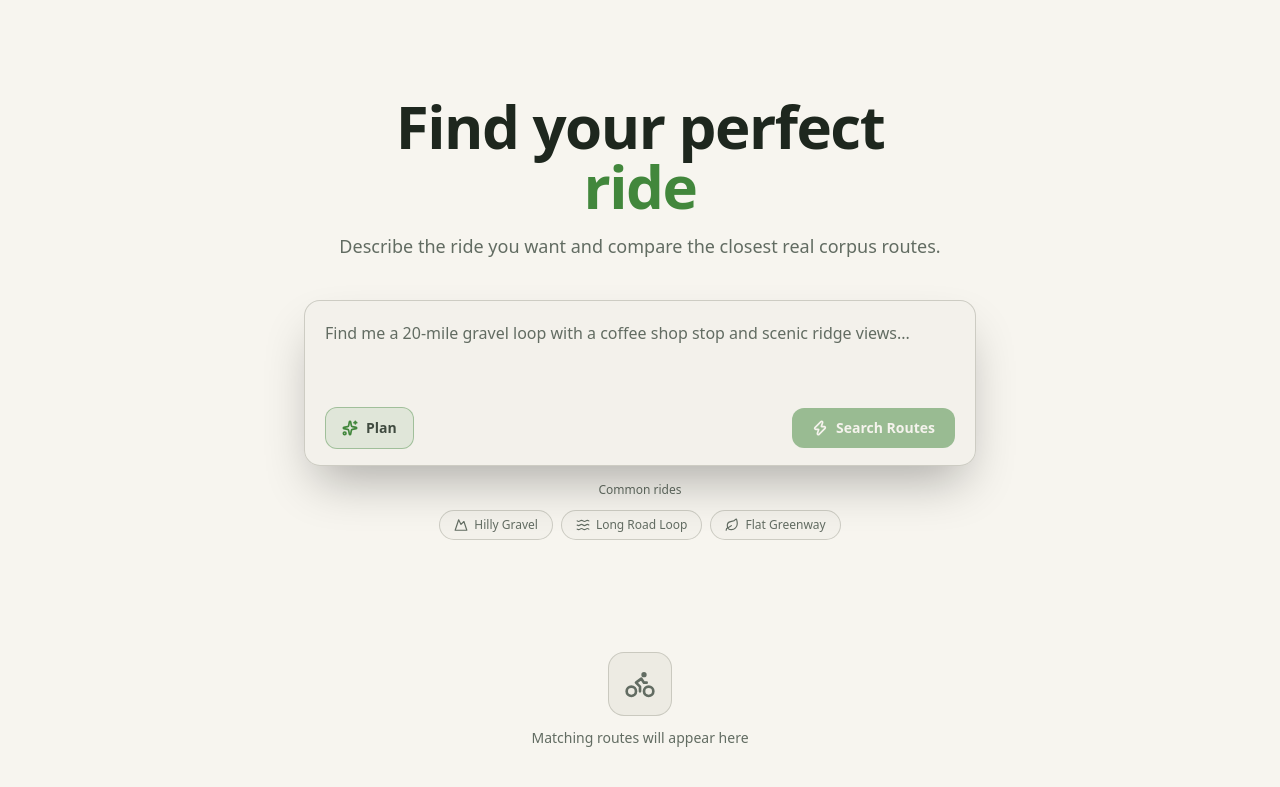
Test: GeneratePage › searches and renders returned route cards
Replace the text in the text box with "flat paved loop" at (640, 353), box [309,305,971,401]
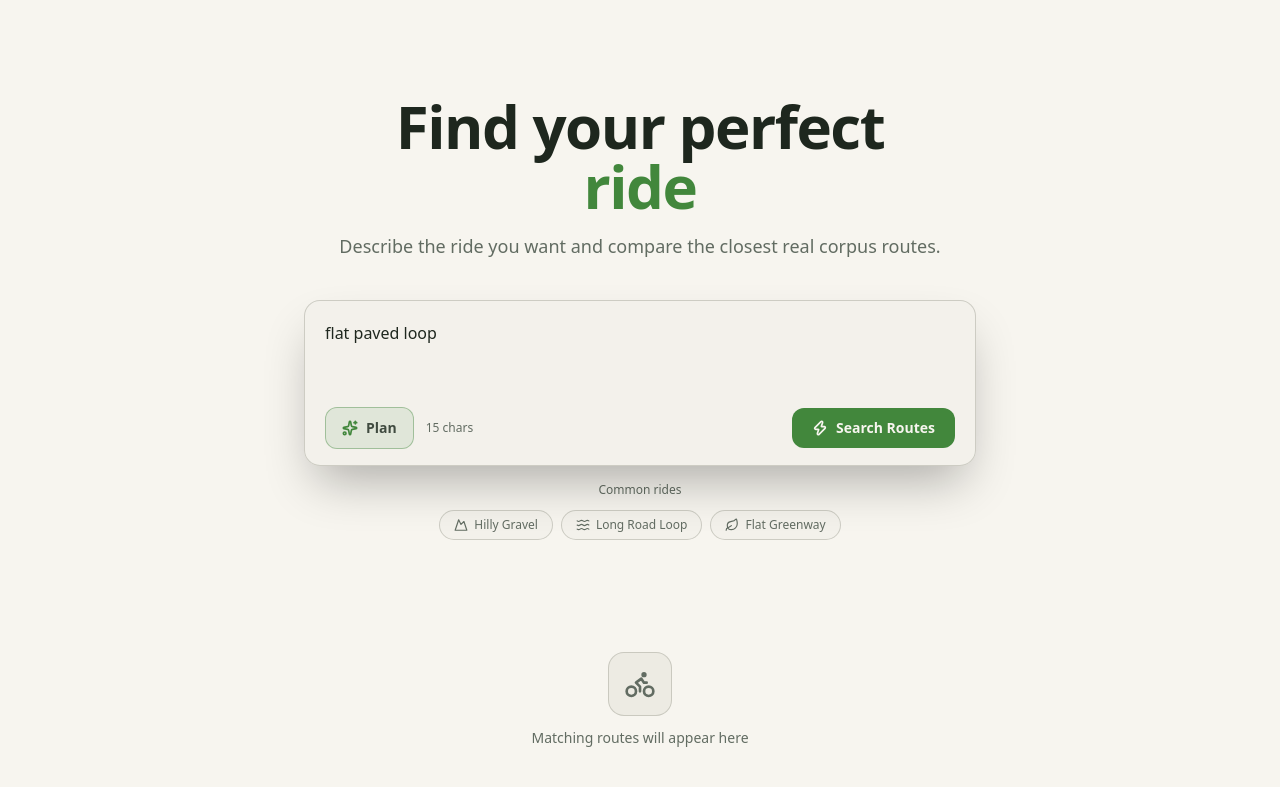
Click the button "Search Routes" at (874, 428), box [792,408,955,448]
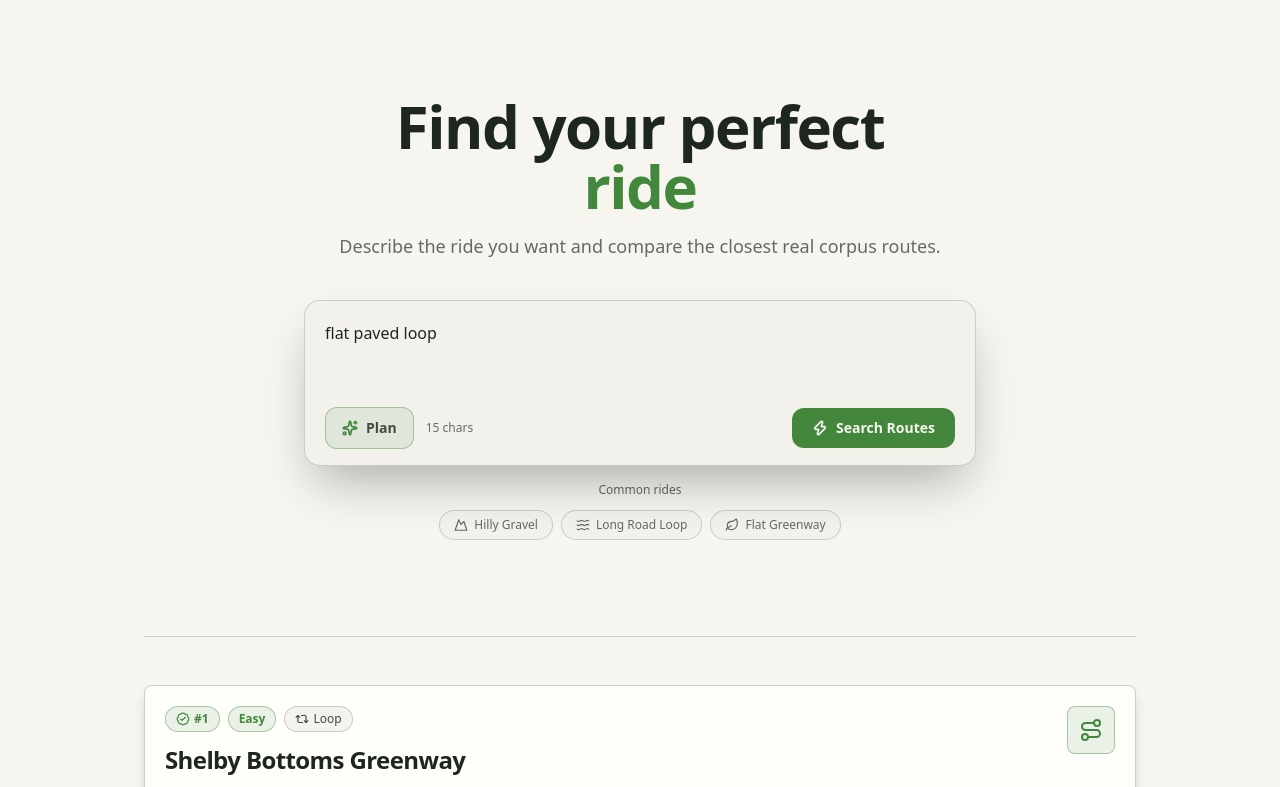
Check: the heading "Shelby Bottoms Greenway" is shown, box [165,743,465,776]
